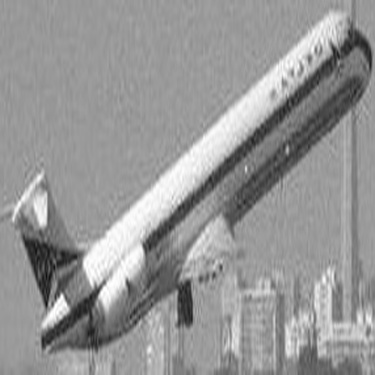airplane: (7, 9, 369, 371)
